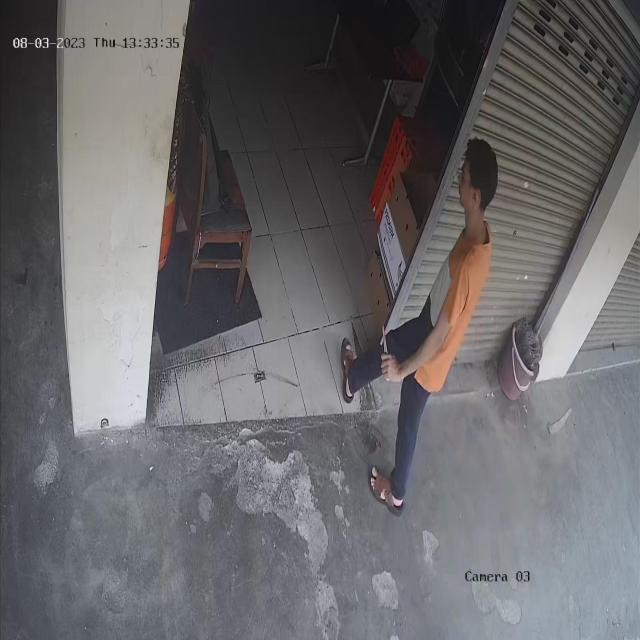Knife: (378, 323, 402, 379)
